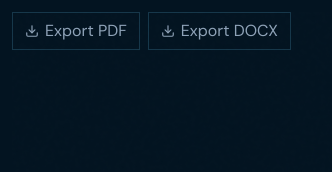
ResumeExportButtons › reports an export failure honestly instead of silently doing nothing
The width and height of the screenshot is (332, 172).
Click the button "Export DOCX" at (219,31), box [148,12,291,50]
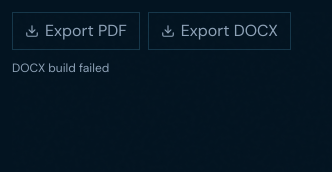
Now the text "DOCX build failed" is shown, box [12,60,109,76]
